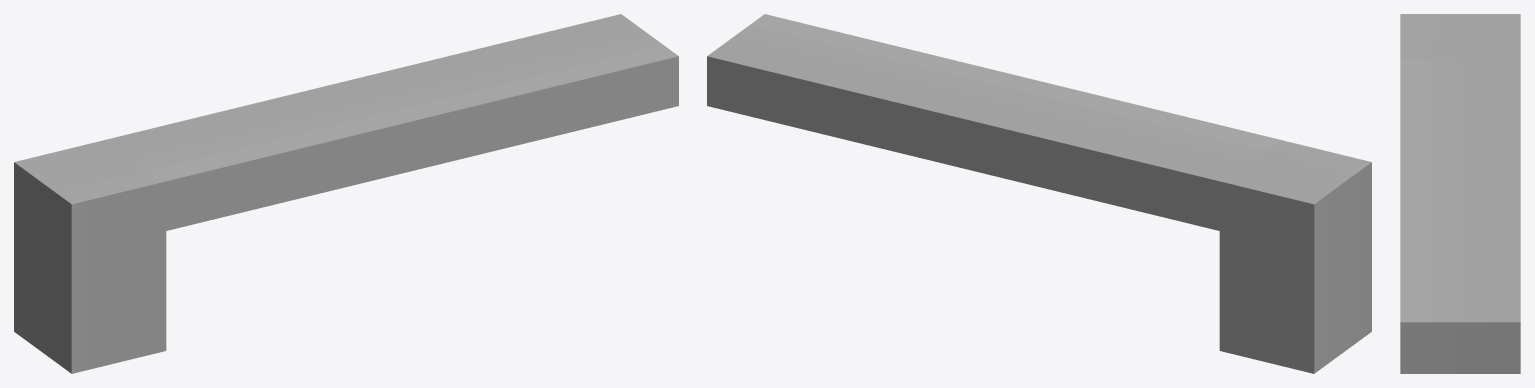
File: handle.glb
3 renders of one model, left to right at view 1: azimuth 30°, elevation 25°; view 2: azimuth 150°, elevation 25°; view 3: azimuth 270°, elevation 25°, orthographic. The views are drawn at different scales.
Visible parts, largest first — view 1: Handle; view 2: Handle; view 3: Handle.
Part boxes in pixels (x1,y1,x2,y2): Handle: (14, 14, 678, 373); Handle: (707, 14, 1371, 373); Handle: (1400, 14, 1520, 373).
Size of the model in its own units: 5.61 by 1.5 by 0.9244.
Materials: 1 (1 with a texture image).
